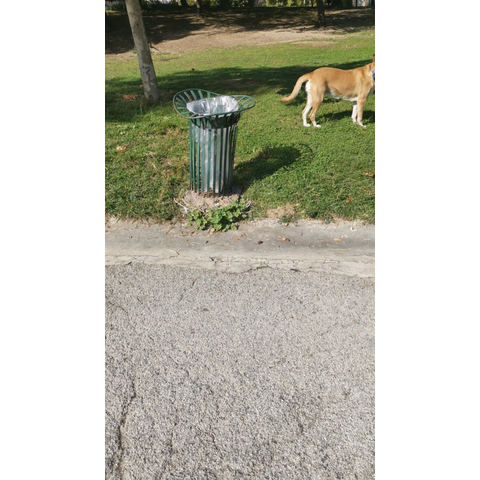poubelle: (170, 85, 259, 201)
